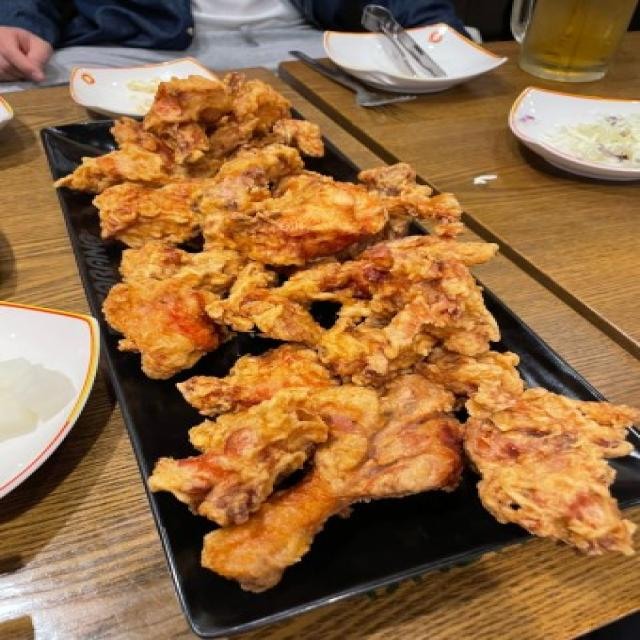Frango: (73, 66, 640, 640)
